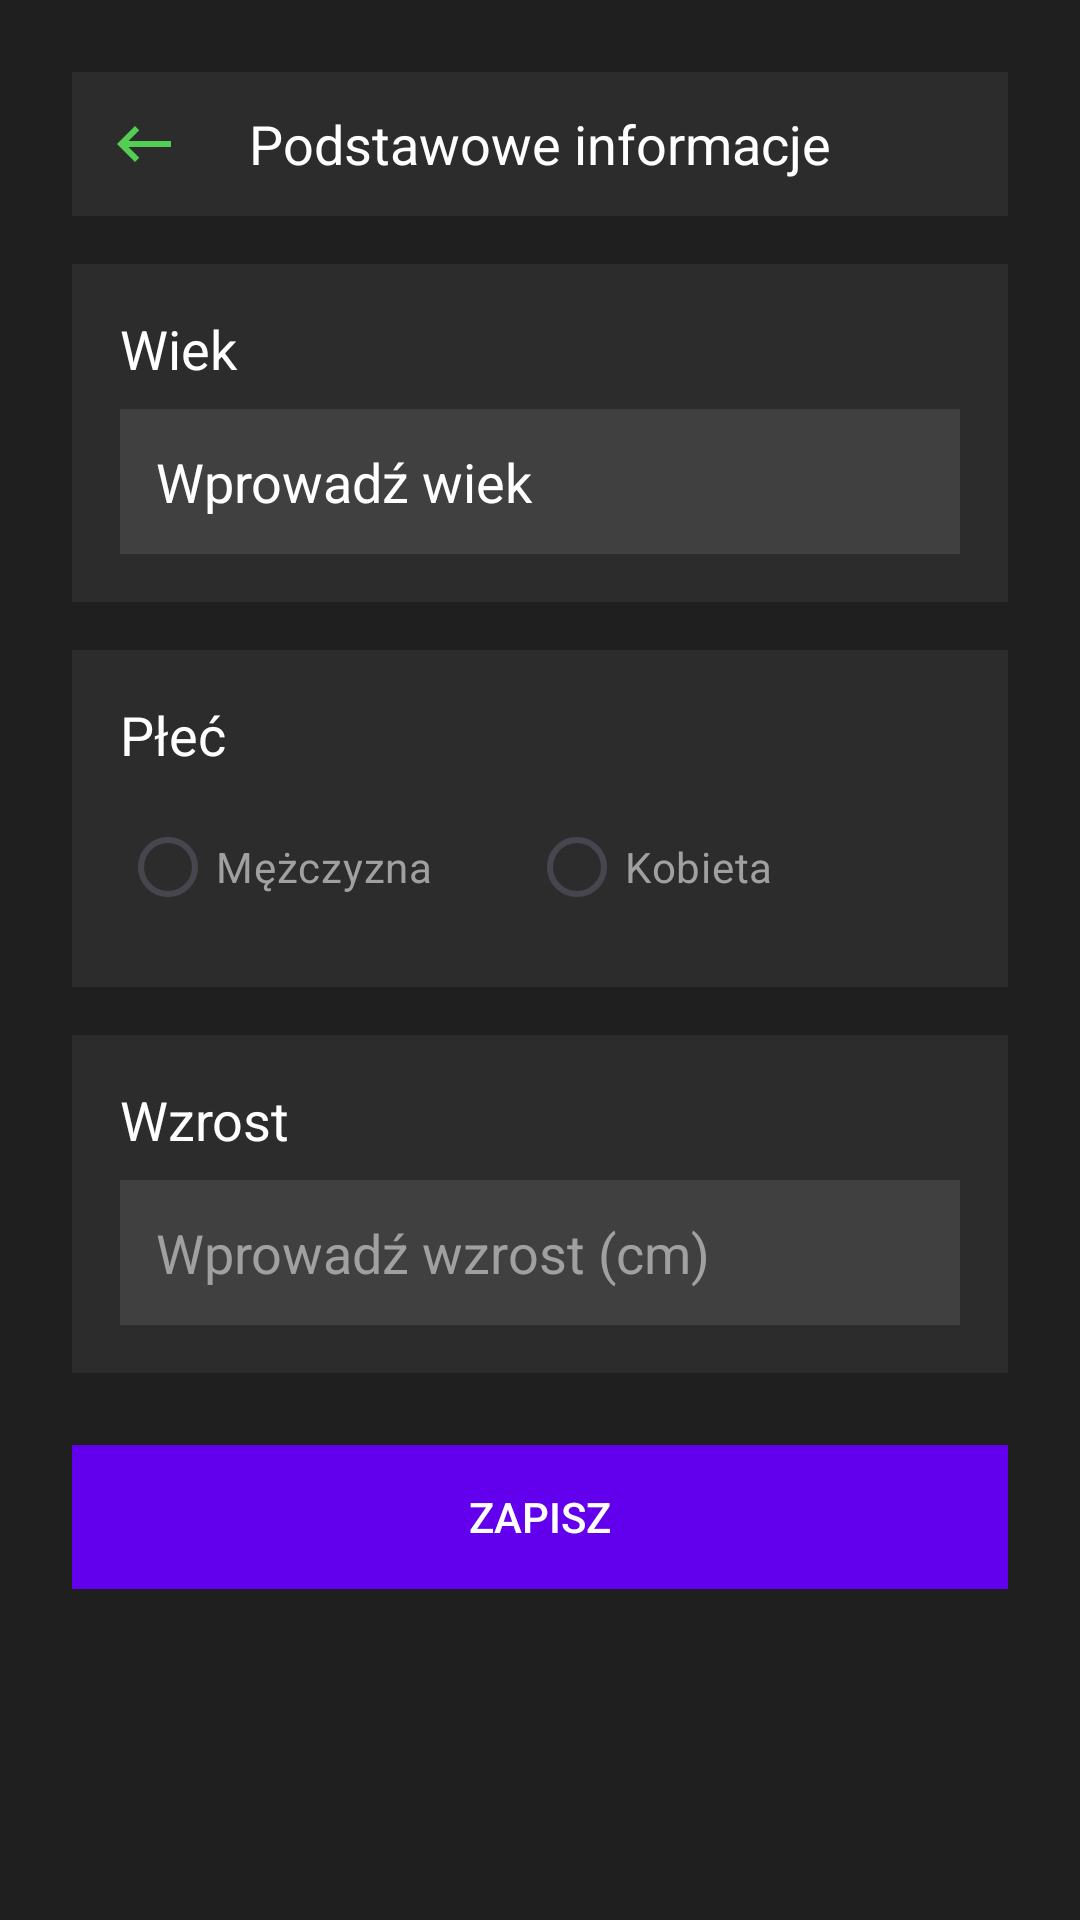

Icons on this 1080px×1920px Android screen, each with its box as [x1, y1, x2, y2]:
Wróć do poprzedniego ekranu: [72, 72, 216, 216]
